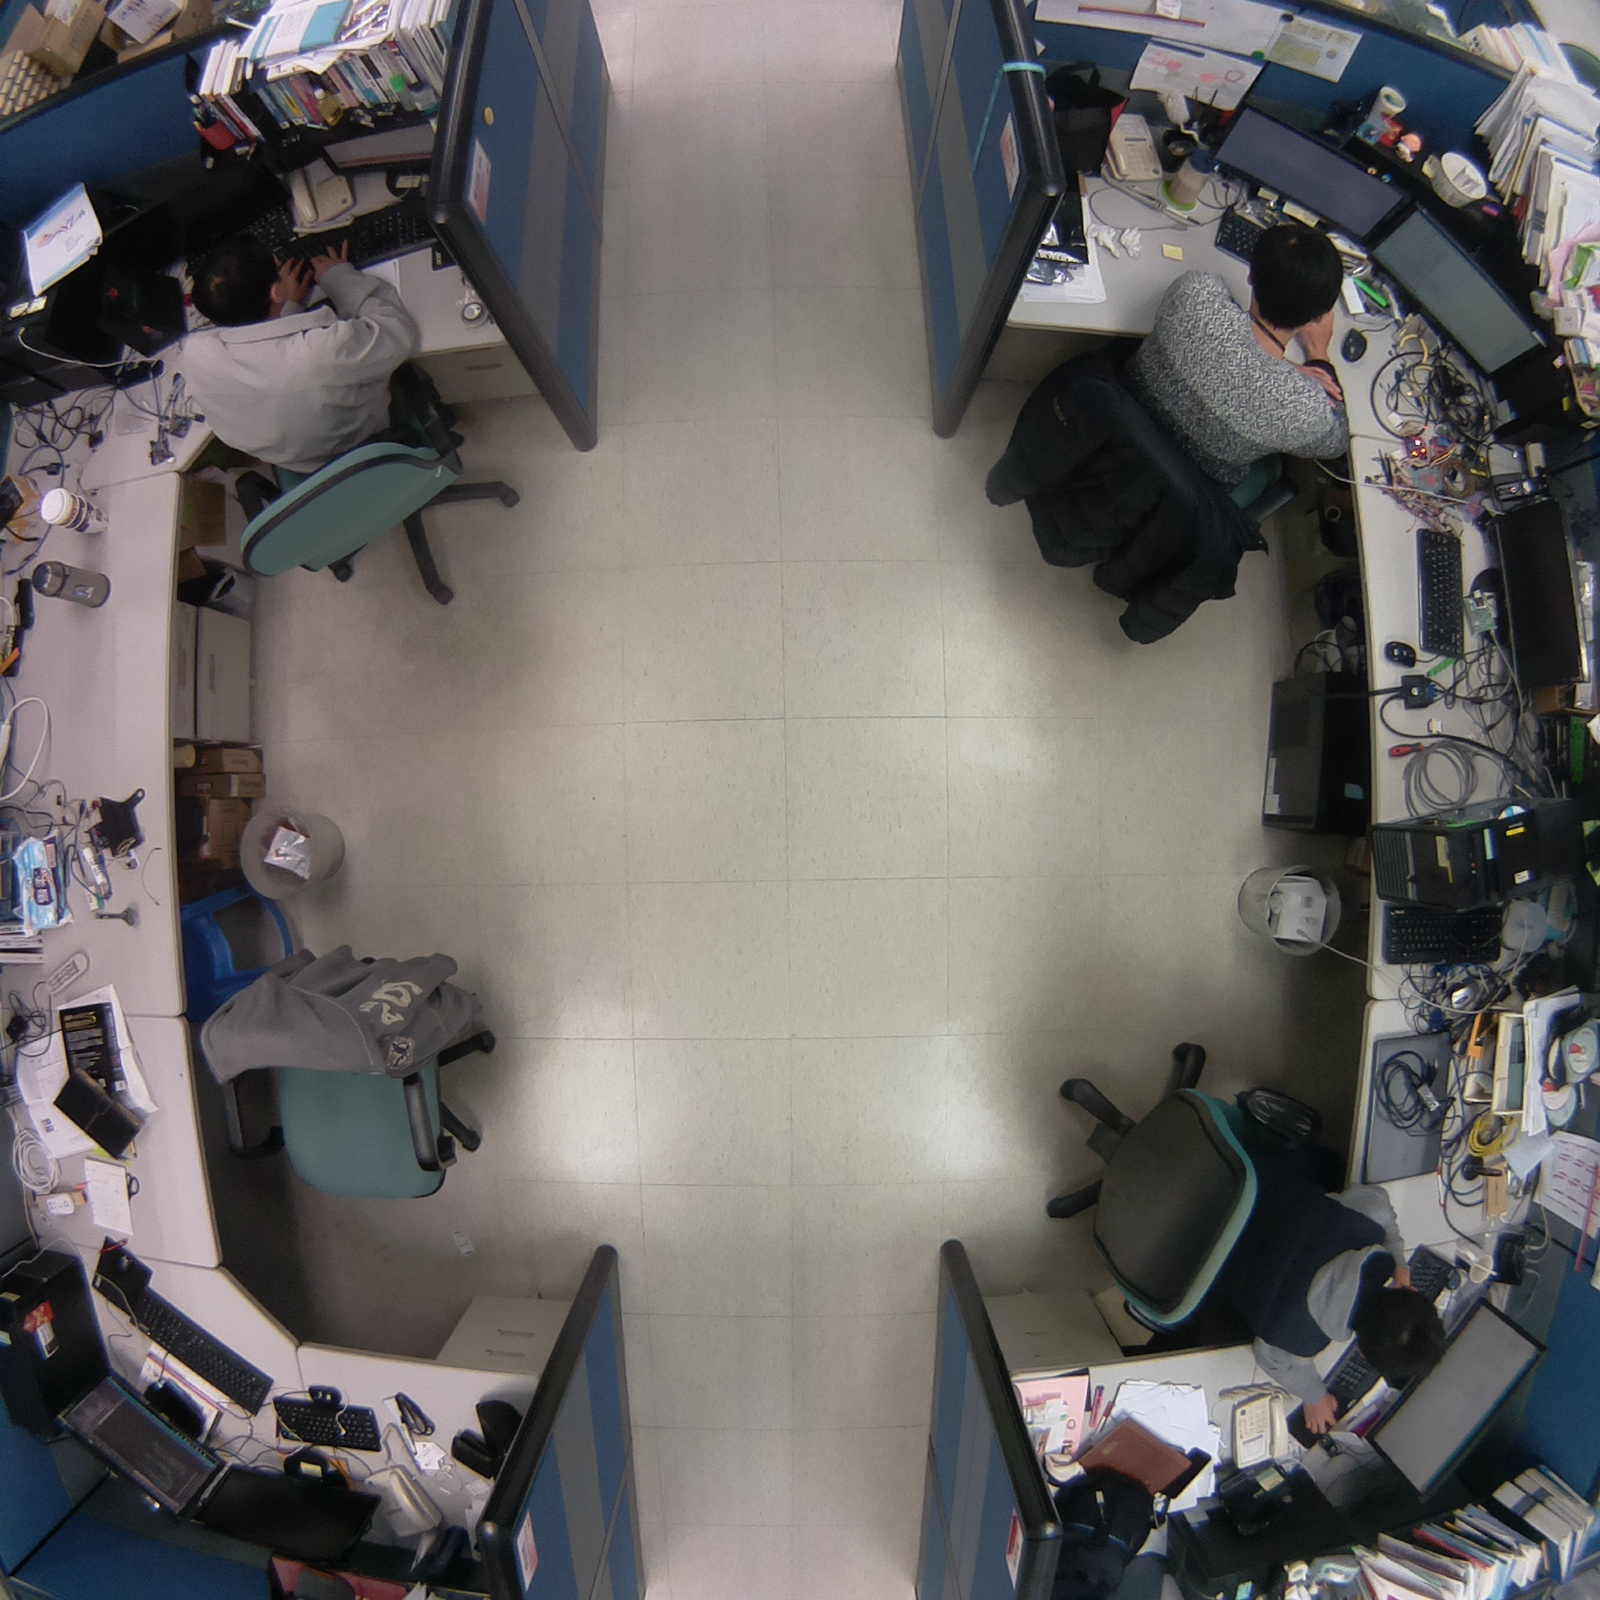chair: (192, 920, 530, 1237)
sitting: (1018, 1026, 1462, 1467), (963, 210, 1385, 667), (149, 199, 551, 632)
